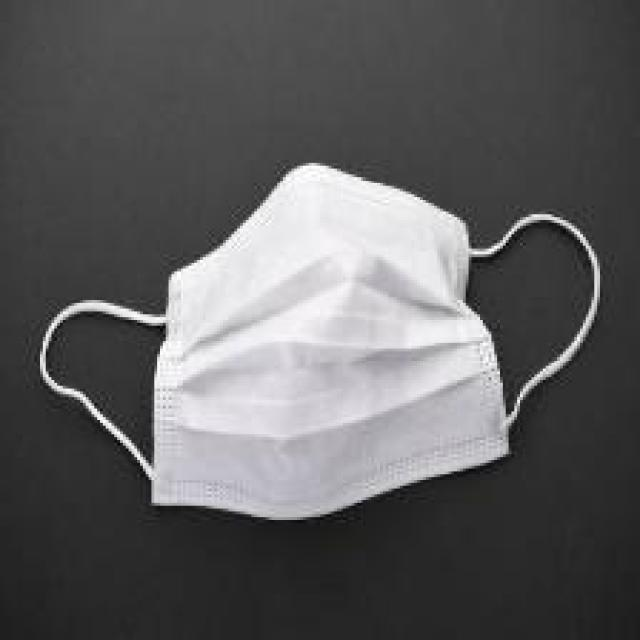Mask: (48, 205, 602, 514)
